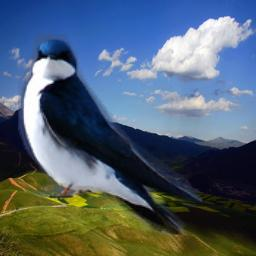Swallow: (18, 34, 202, 235)
